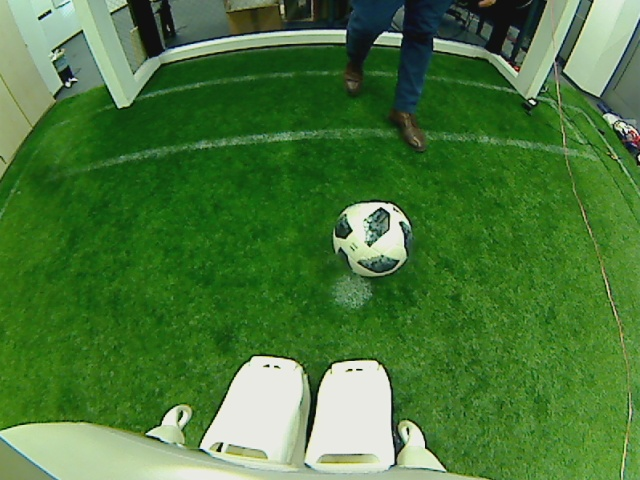ball: (331, 197, 413, 280)
